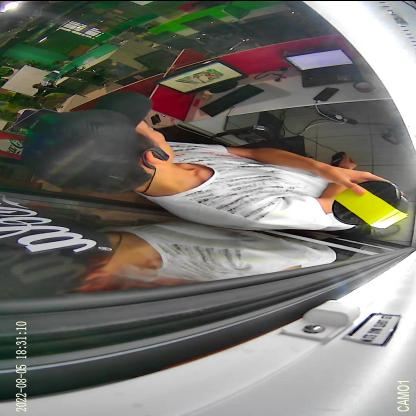yellow: (332, 180, 410, 228)
